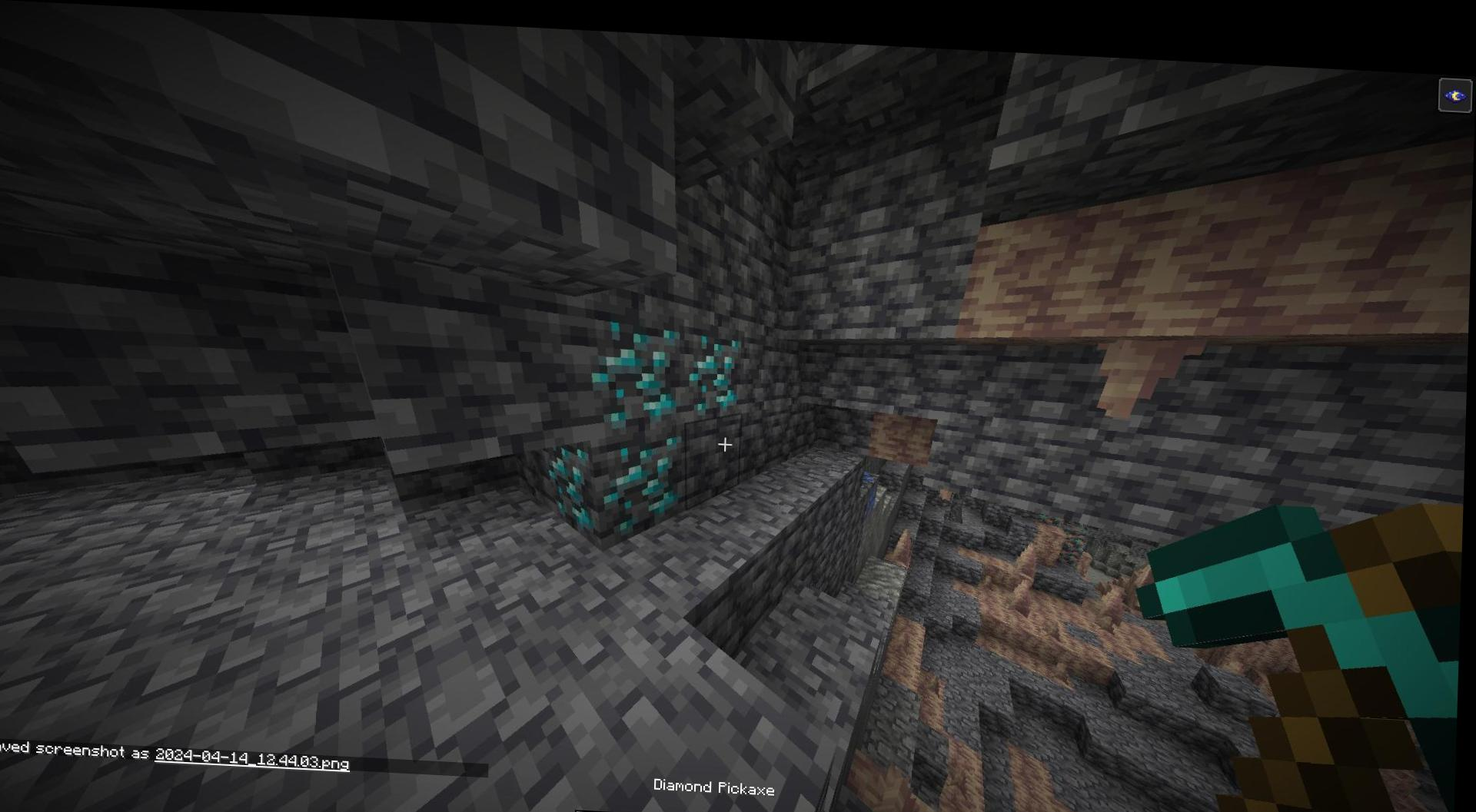diamond ore: (588, 304, 684, 428), (609, 434, 692, 524), (683, 312, 751, 418), (551, 428, 602, 523)
